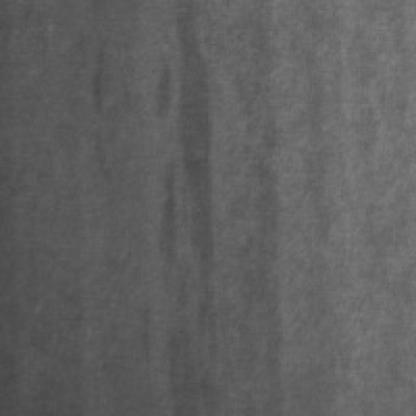inclusion: (143, 8, 223, 364), (77, 40, 114, 127)
